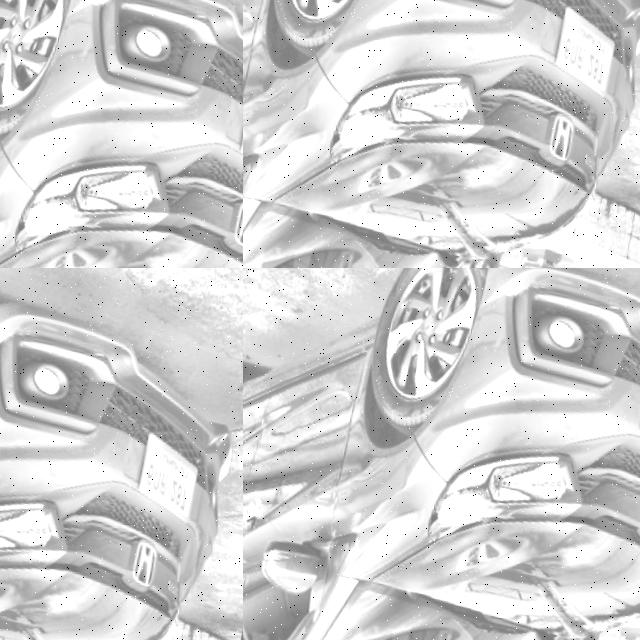license-plate: (552, 0, 628, 89)
